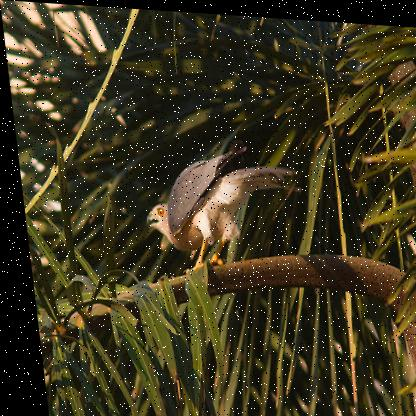Burung: (133, 130, 307, 279)
